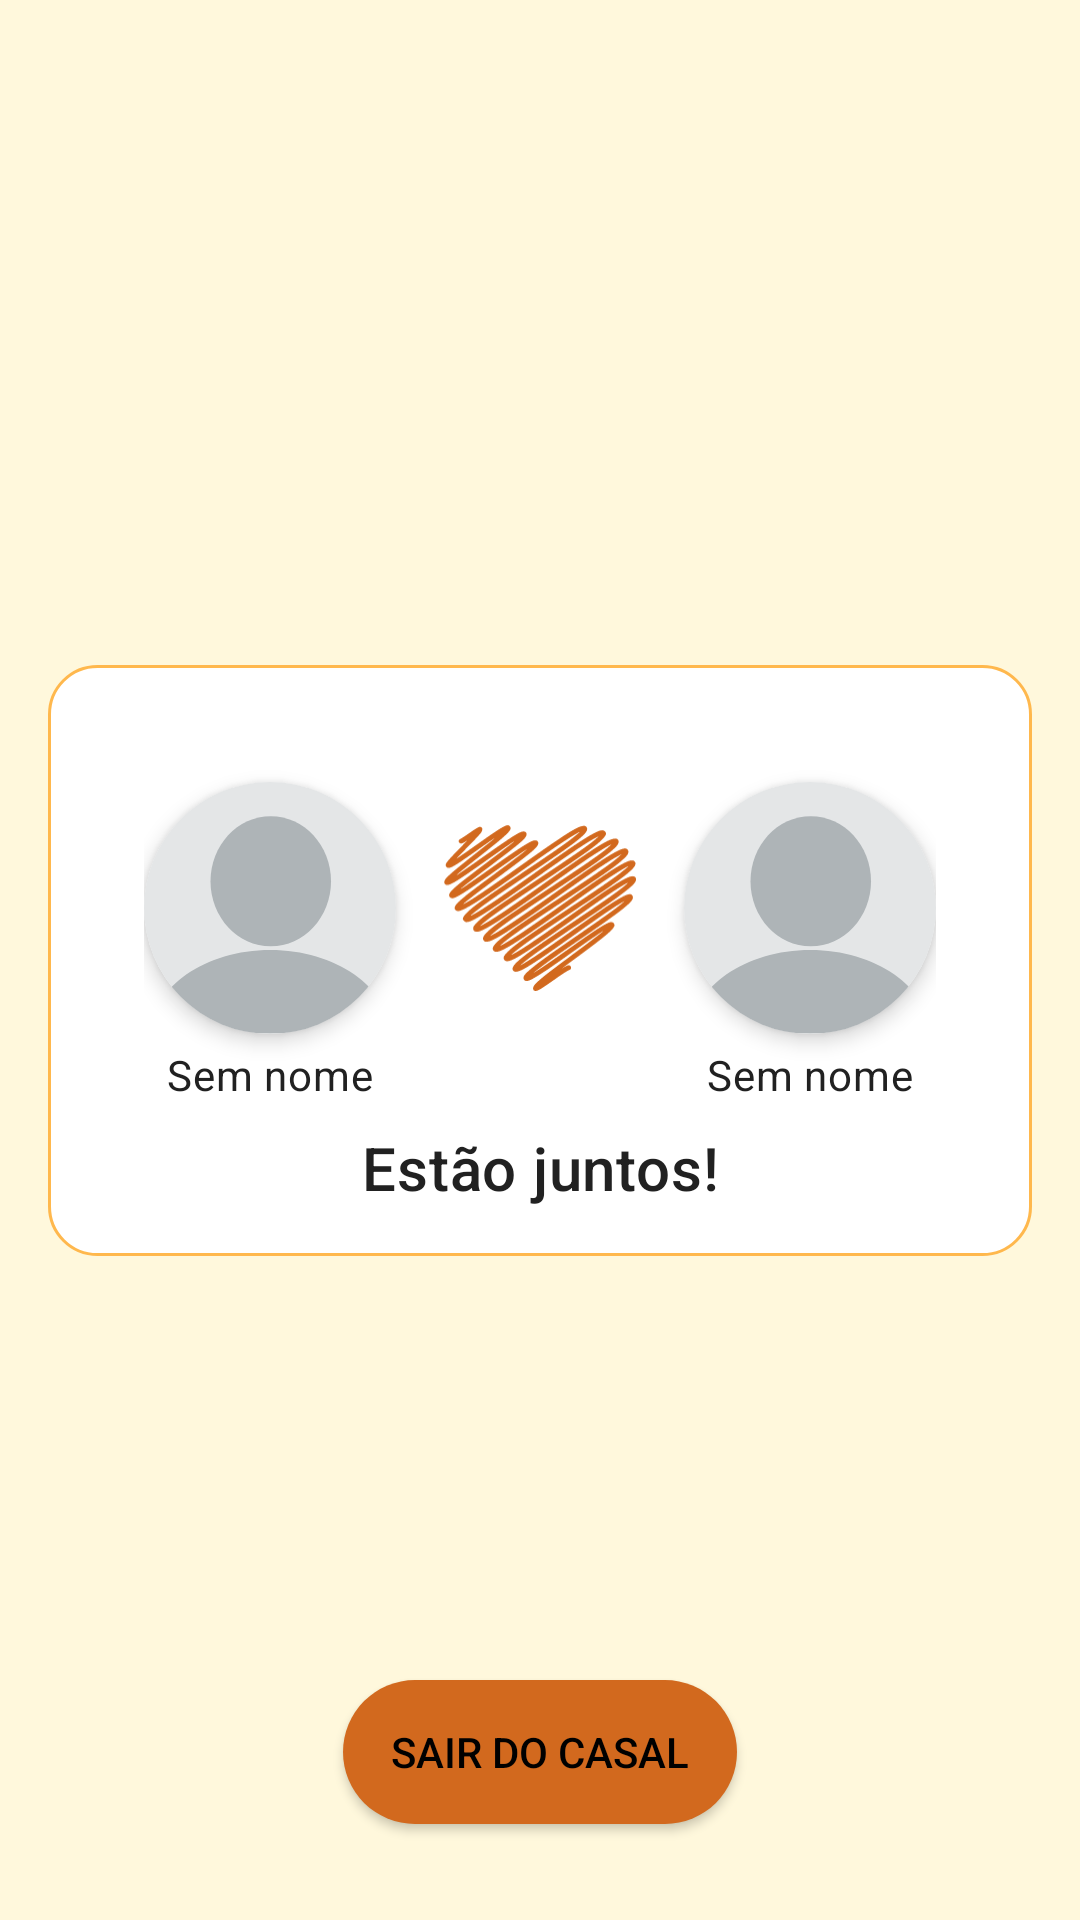

Screen size 1080 x 1920. Icon name, then its center in pixels as point (x, y):
Avatar 1: point (270, 908)
avatar2: point (810, 908)
heart: point (540, 908)
